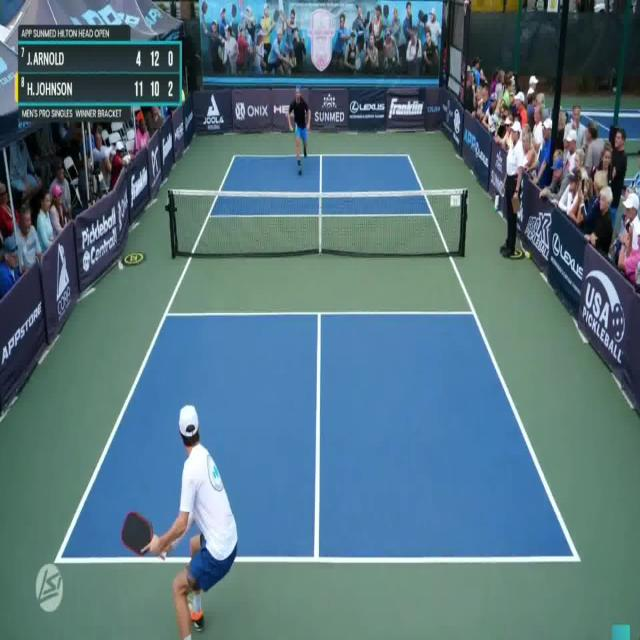Court: (55, 155, 580, 565)
